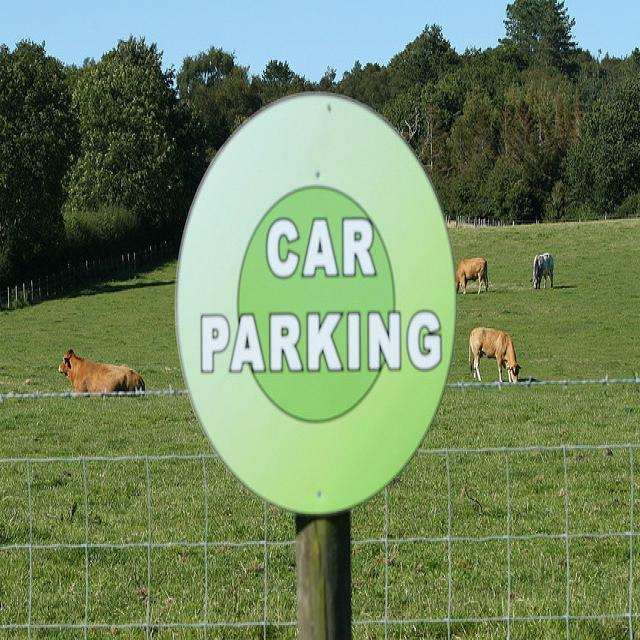cow: (55, 348, 143, 393), (467, 325, 522, 381), (454, 255, 487, 294), (527, 251, 552, 287)
